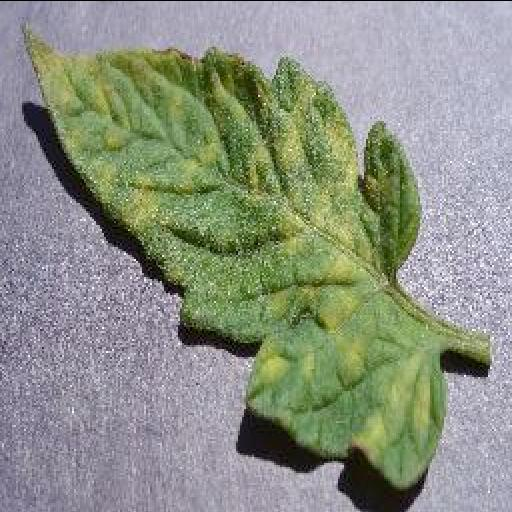disease_tomato: (18, 24, 448, 485)
